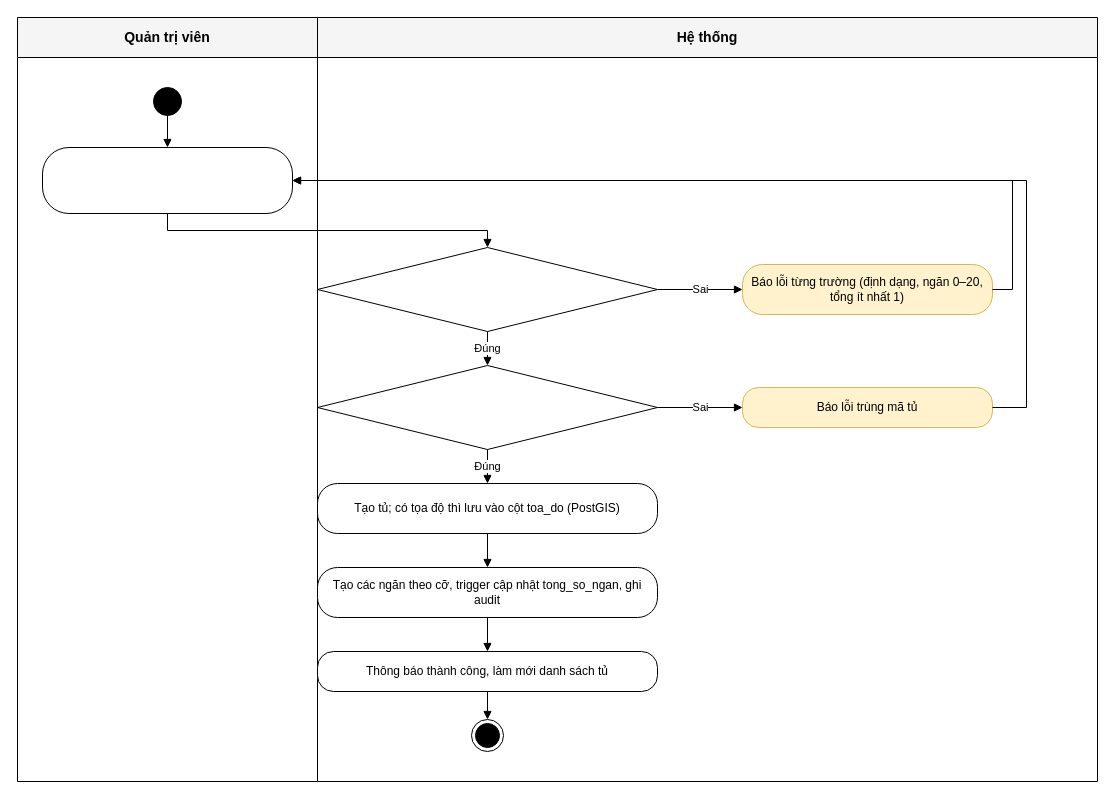
Some shapes in this 1115 by 799 pixel diagram are drawn without their labels. Here are the shapes that lost their labels. From the top down, the box of each, then its label:
(42, 146, 292, 214): Chọn tab “Tủ locker”, nhập mã tủ, vị trí, kinh độ, vĩ độ, số ngăn S/M/L
(316, 246, 658, 332): Dữ liệu hợp lệ?
(316, 364, 658, 450): Mã tủ chưa tồn tại?
